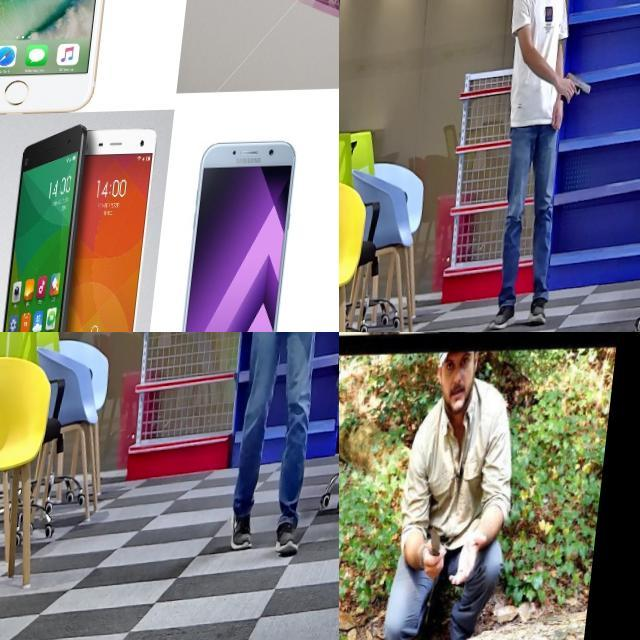-: (339, 368, 389, 578), (436, 522, 462, 584), (453, 332, 500, 357), (339, 332, 351, 359)
gun-knife-thesis - v11 Yolov5 augmented: (562, 72, 608, 118), (287, 332, 323, 361)
